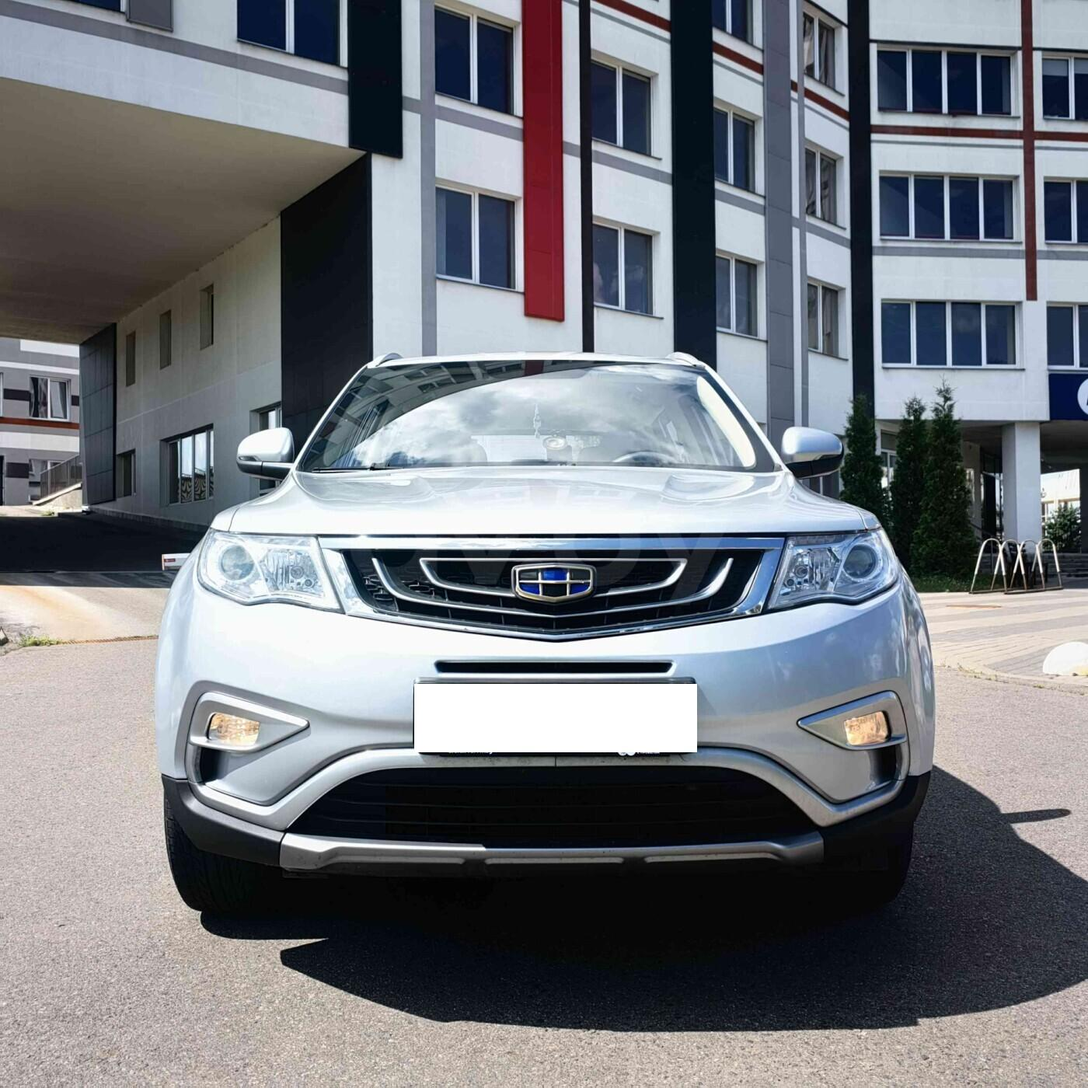Atlas_2016-2023: (145, 347, 939, 936)
